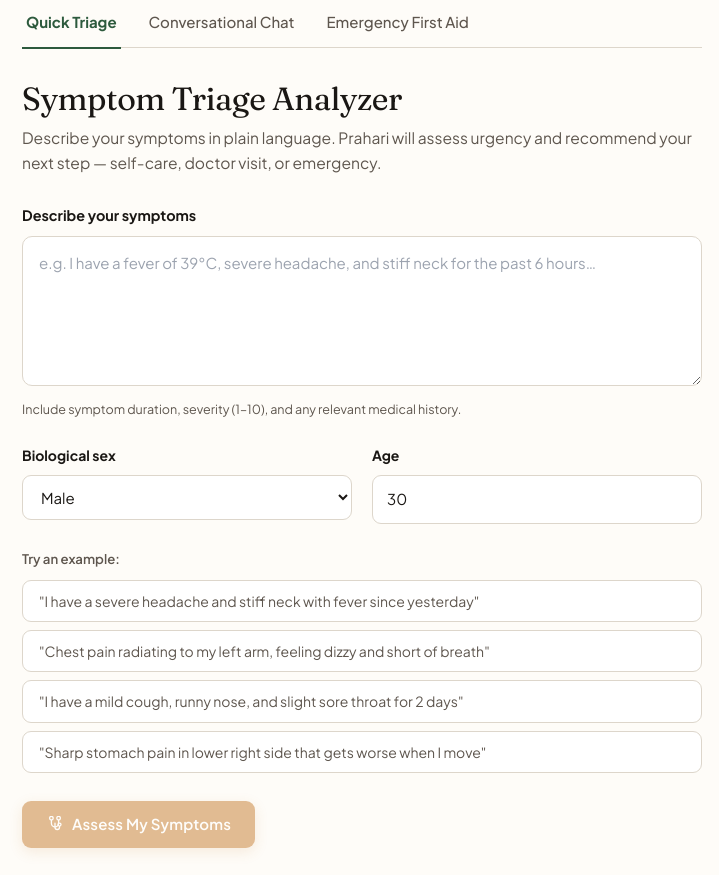
TriagePage Component Integration › handles moderate urgency triage recommendations
Step 1. Replace the text in the text box labelled "Describe your symptoms" with "Persistent cough for 3 weeks" → (362, 311), box x1=22 y1=236 x2=702 y2=386
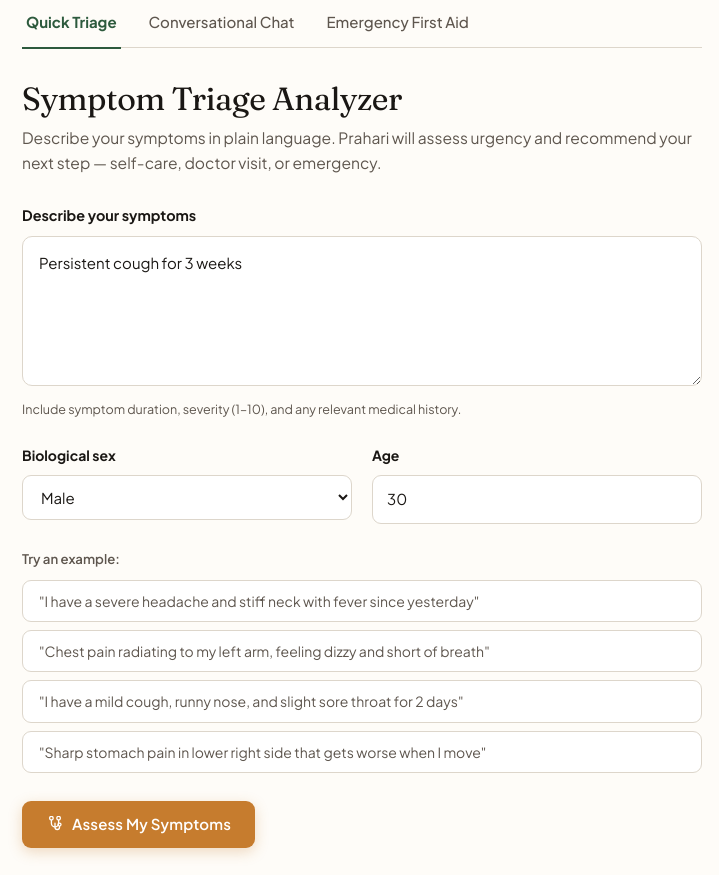
Step 2. Click the button "Assess My Symptoms" → click(138, 824), box x1=22 y1=801 x2=255 y2=848
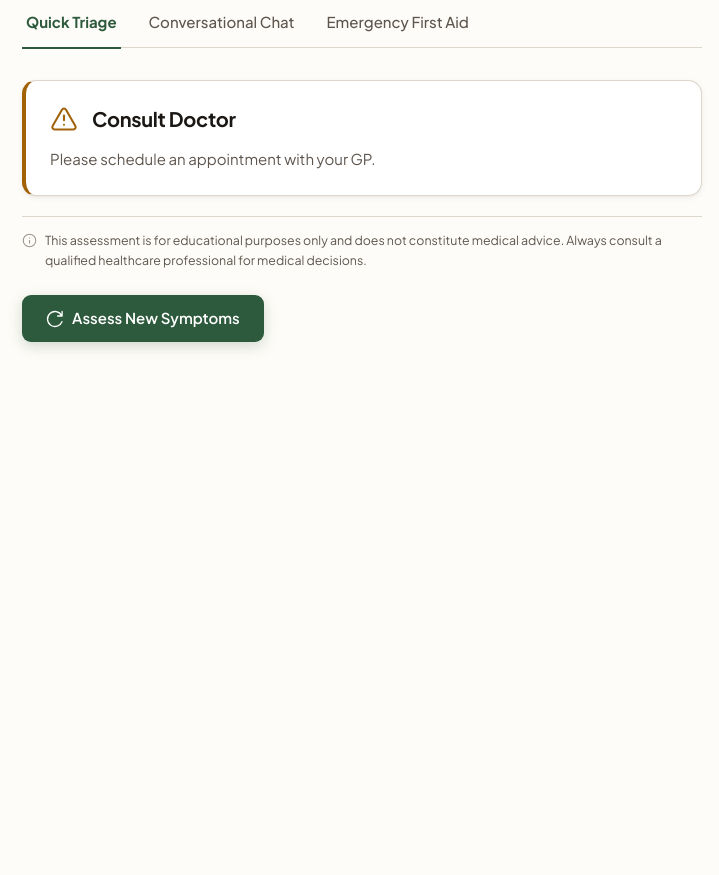
Check: the heading "Consult Doctor" is shown, box x1=92 y1=108 x2=236 y2=131
Check: the text "Please schedule an appointment with your GP." is shown, box x1=50 y1=149 x2=376 y2=168
